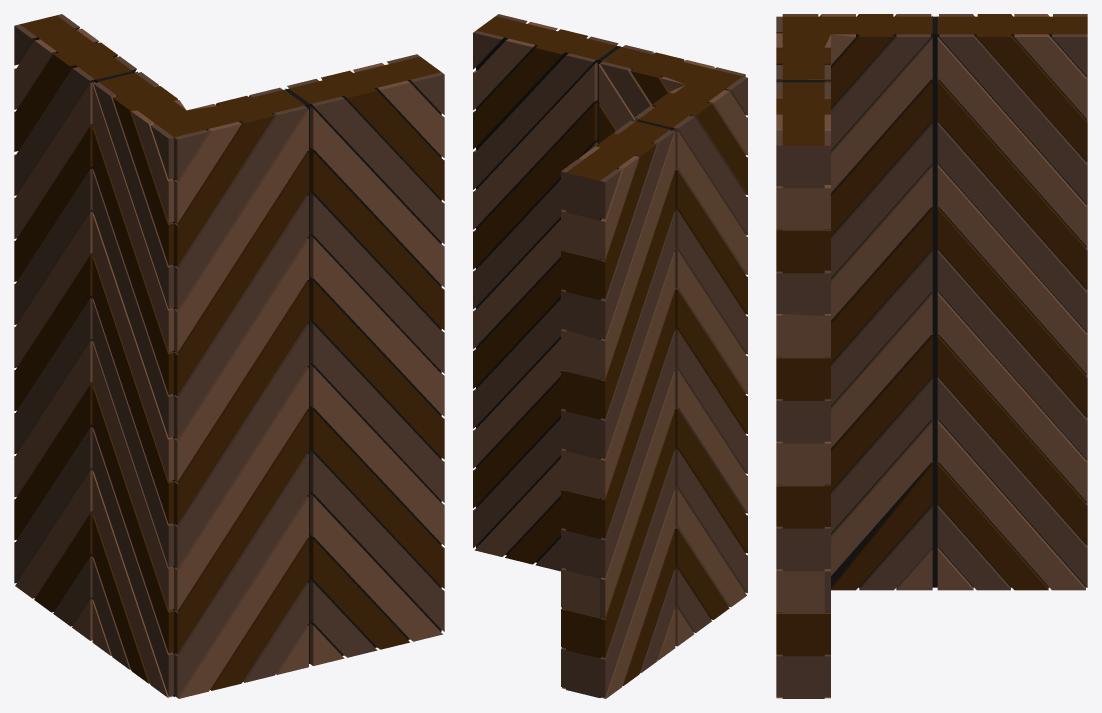
Rendered from ArrowBoardCorner.glb.
3 views of the same model, side by side, from view 1: azimuth 30°, elevation 25°; view 2: azimuth 150°, elevation 25°; view 3: azimuth 270°, elevation 25° (orthographic). The views are drawn at different scales.
Visible parts, largest first — view 1: wall_arrowBoard_corner; view 2: wall_arrowBoard_corner; view 3: wall_arrowBoard_corner.
Part boxes in pixels (x1,y1,x2,y2): wall_arrowBoard_corner: (14,14,444,698); wall_arrowBoard_corner: (473,14,747,698); wall_arrowBoard_corner: (776,14,1087,698).
Size of what is drawn, in the model's own units: 2.04 by 4 by 2.04.
1 material, 1 textured.
